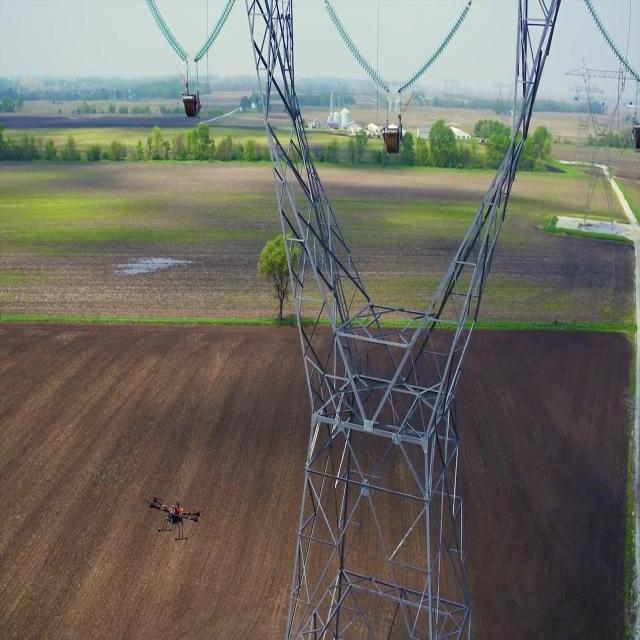drone: (148, 493, 202, 544)
